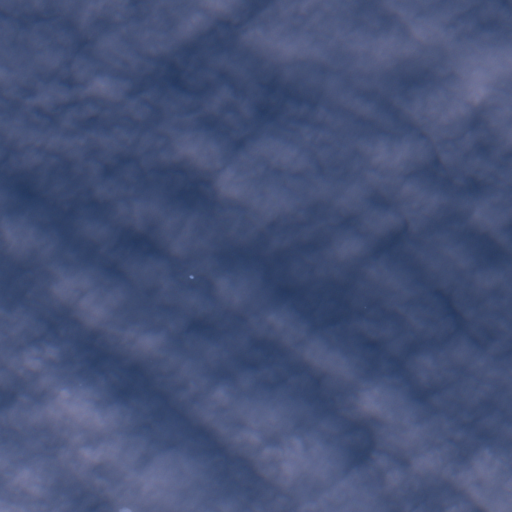Iceberg: (189, 275, 194, 278)
